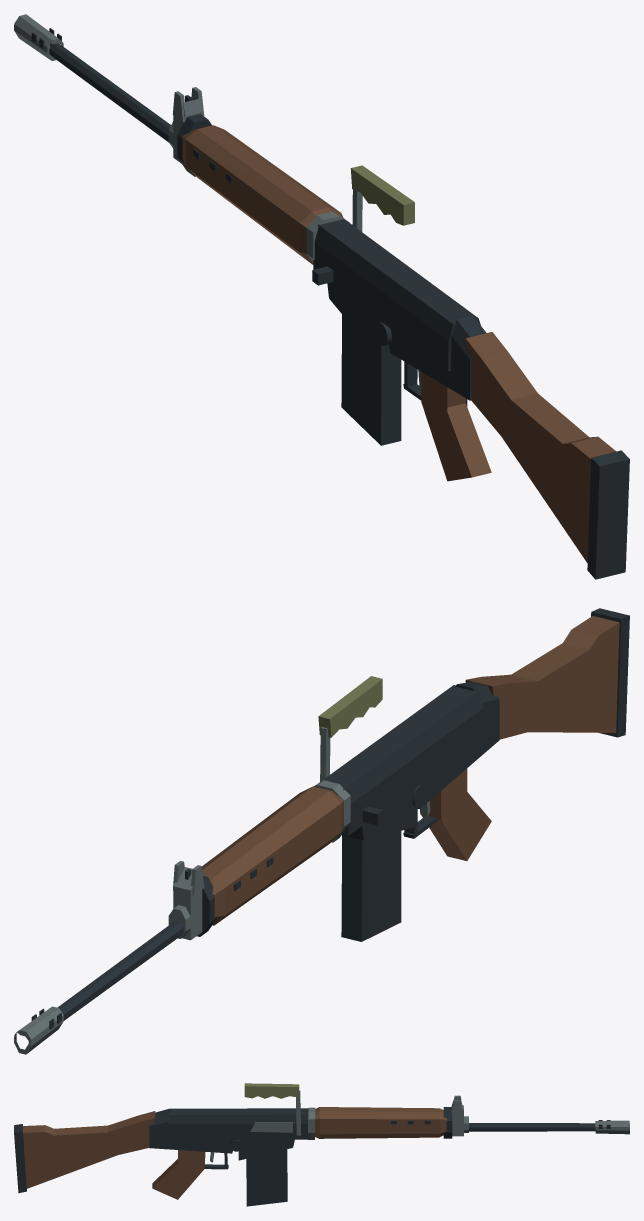
Rendered from FNFAL2.glb.
3 renders of one model, top to bottom at view 1: azimuth 30°, elevation 25°; view 2: azimuth 150°, elevation 25°; view 3: azimuth 270°, elevation 25°, orthographic. The views are drawn at different scales.
Visible parts, largest first — view 1: Wood_stock_0, Top_cover_4.002, Handguard_23, Straight_magazine_15, Butt_pad_2, Pistol_grip_9, Top_cover_4, Barrel_33, Carry_handle_49, Top_cover_4.003, Flash_hider_35; view 2: Wood_stock_0, Top_cover_4.002, Handguard_23, Straight_magazine_15, Pistol_grip_9, Top_cover_4, Barrel_33, Carry_handle_49, Butt_pad_2, Top_cover_4.003, Gas_block_41, Flash_hider_35 (+1 smaller); view 3: Wood_stock_0, Top_cover_4.002, Handguard_23, Straight_magazine_15, Pistol_grip_9, Top_cover_4, Barrel_33, Top_cover_4.003, Carry_handle_49, Butt_pad_2, Flash_hider_35, Ejection_port_7 (+4 smaller).
Boxes of the visible parts, x1=… form: Wood_stock_0: x1=465, y1=332, x2=616, y2=562; Top_cover_4.002: x1=313, y1=218, x2=480, y2=371; Handguard_23: x1=182, y1=125, x2=343, y2=264; Straight_magazine_15: x1=341, y1=314, x2=401, y2=445; Butt_pad_2: x1=587, y1=450, x2=629, y2=579; Pistol_grip_9: x1=421, y1=371, x2=491, y2=481; Top_cover_4: x1=389, y1=315, x2=486, y2=400; Barrel_33: x1=49, y1=43, x2=170, y2=142; Carry_handle_49: x1=350, y1=165, x2=414, y2=225; Top_cover_4.003: x1=327, y1=283, x2=396, y2=361; Flash_hider_35: x1=14, y1=14, x2=63, y2=60; Wood_stock_0: x1=465, y1=616, x2=619, y2=739; Top_cover_4.002: x1=318, y1=685, x2=483, y2=835; Handguard_23: x1=201, y1=786, x2=343, y2=925; Straight_magazine_15: x1=341, y1=831, x2=401, y2=941; Pistol_grip_9: x1=421, y1=768, x2=491, y2=860; Top_cover_4: x1=416, y1=682, x2=499, y2=809; Barrel_33: x1=57, y1=921, x2=183, y2=1020; Carry_handle_49: x1=318, y1=676, x2=382, y2=737; Butt_pad_2: x1=591, y1=608, x2=629, y2=737; Top_cover_4.003: x1=342, y1=787, x2=416, y2=840; Gas_block_41: x1=173, y1=867, x2=202, y2=940; Flash_hider_35: x1=14, y1=1006, x2=63, y2=1054; Wood_stock_0: x1=23, y1=1111, x2=155, y2=1188; Top_cover_4.002: x1=168, y1=1108, x2=309, y2=1140; Handguard_23: x1=315, y1=1107, x2=447, y2=1138; Straight_magazine_15: x1=246, y1=1149, x2=287, y2=1206; Pistol_grip_9: x1=152, y1=1150, x2=205, y2=1199; Top_cover_4: x1=149, y1=1108, x2=233, y2=1153; Barrel_33: x1=469, y1=1123, x2=595, y2=1131; Top_cover_4.003: x1=238, y1=1139, x2=294, y2=1160; Carry_handle_49: x1=244, y1=1083, x2=299, y2=1098; Butt_pad_2: x1=14, y1=1124, x2=26, y2=1193; Flash_hider_35: x1=595, y1=1120, x2=629, y2=1134; Ejection_port_7: x1=250, y1=1122, x2=292, y2=1132.
Bounding box in the file's own units: 0.0663 × 0.2751 × 1.25.
